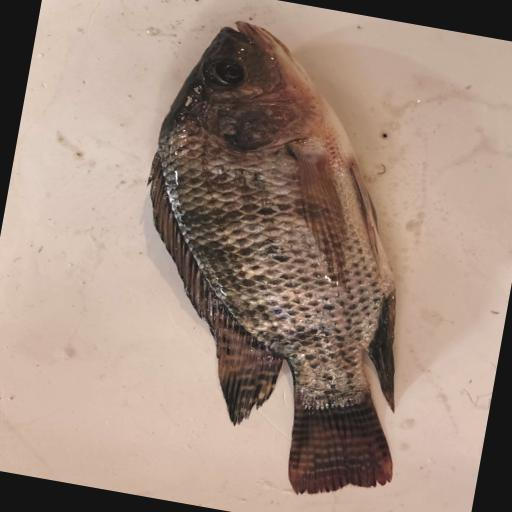Tilapia: (99, 9, 466, 509)
